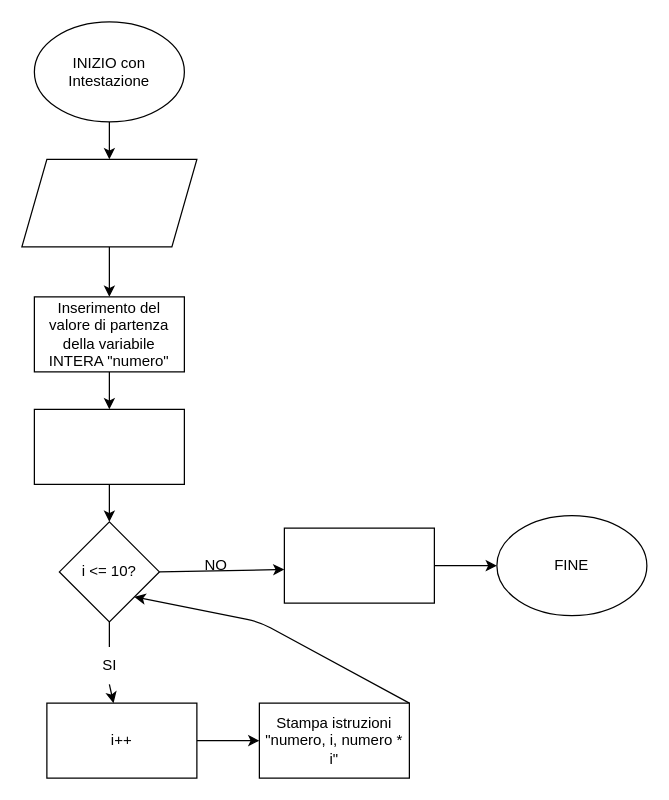
The diagram is 669 pixels wide and 800 high, and some of its shapes have lost their labels. The centre of each missing label's shape, as x and y in pixels:
Dichiarazione della variabile INTERA "numero: pixel 109 202
i = 1: pixel 108 446
Stampa la tabellina: pixel 358 565
